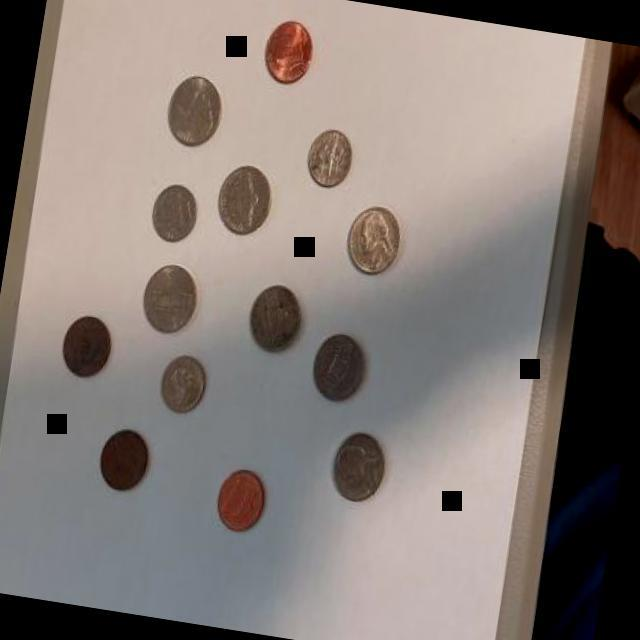Dime: (146, 178, 202, 249), (156, 348, 210, 416), (304, 125, 356, 191)
Nickel: (322, 426, 393, 512), (158, 69, 230, 153), (135, 258, 201, 342), (339, 200, 404, 284), (210, 162, 276, 242), (304, 329, 370, 409), (243, 280, 308, 360)
Penny: (210, 462, 271, 546), (55, 310, 115, 387), (94, 424, 152, 503), (258, 15, 318, 90)
